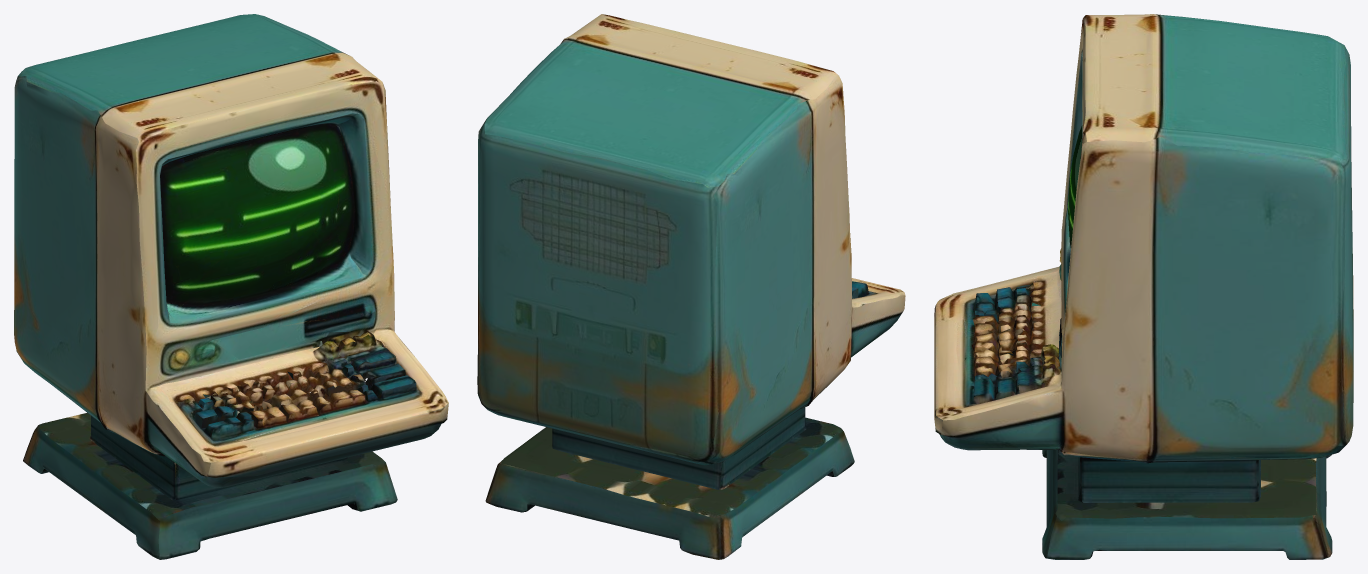
Rendered from terminal.glb.
3 renders of one model, left to right at view 1: azimuth 30°, elevation 25°; view 2: azimuth 150°, elevation 25°; view 3: azimuth 270°, elevation 25°, orthographic. The views are drawn at different scales.
Visible parts, largest first — view 1: terminal; view 2: terminal; view 3: terminal.
Boxes of the visible parts, x1,y1,x2,y2 form: terminal: [14, 14, 448, 559]; terminal: [477, 14, 905, 559]; terminal: [934, 14, 1353, 559].
Size of the model in its own units: 0.659 by 1 by 0.8881.
Materials: 1 (1 with a texture image).
